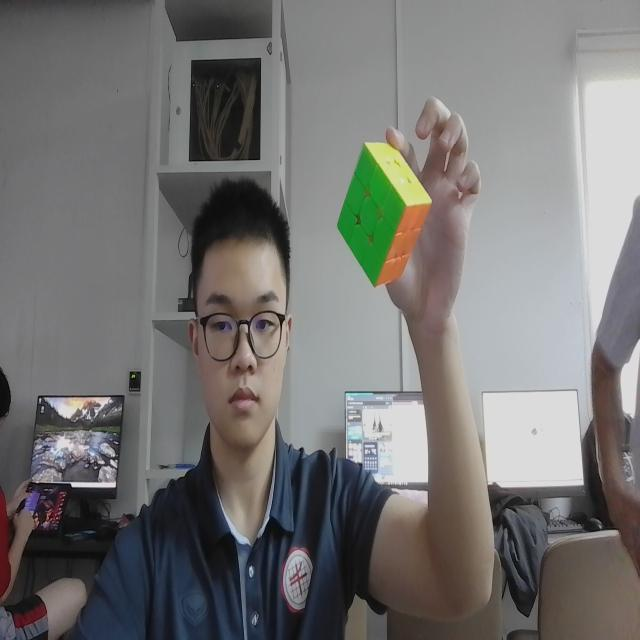rubik: (330, 137, 436, 300)
